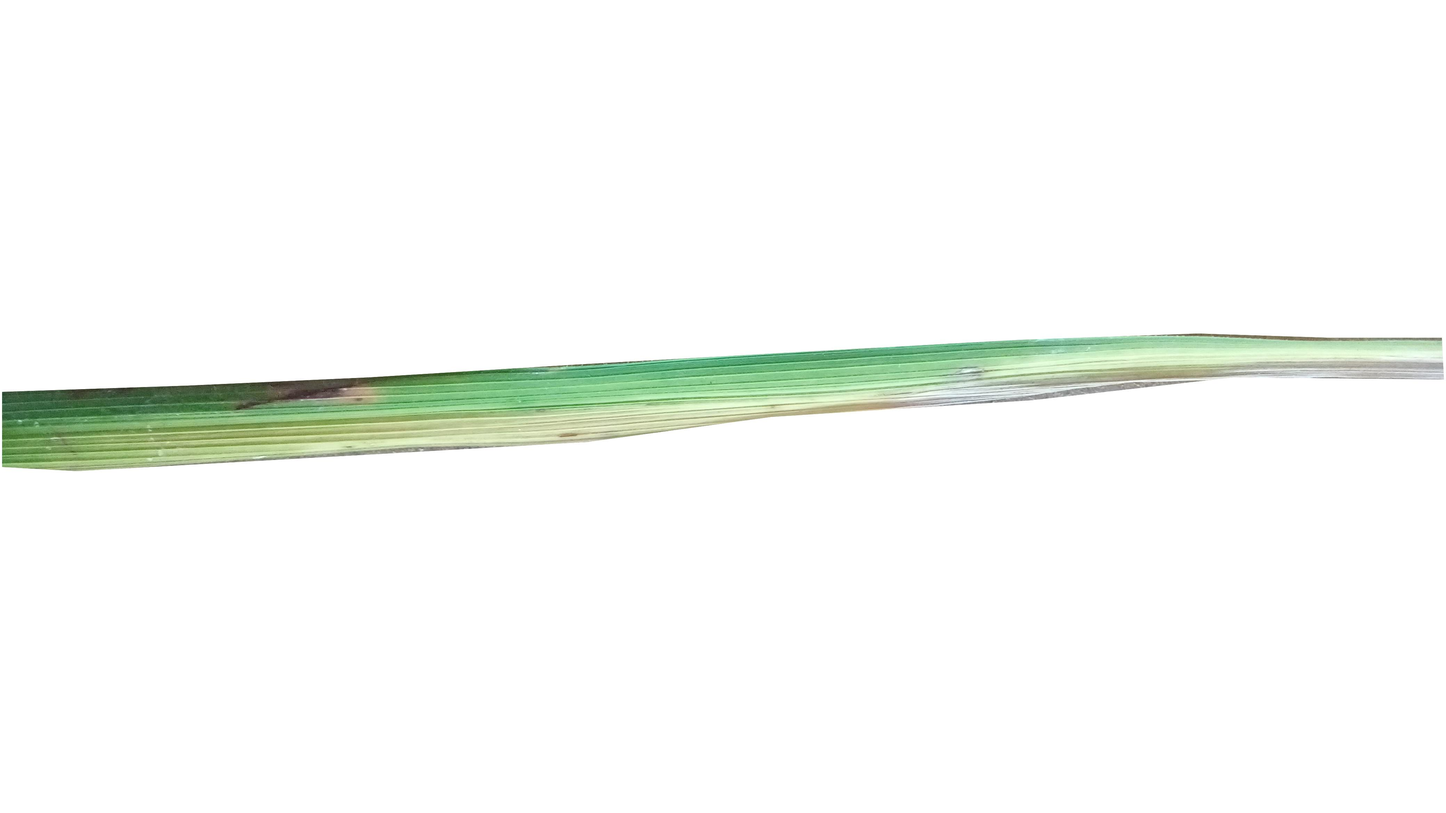Rice blast: (238, 377, 419, 413)
